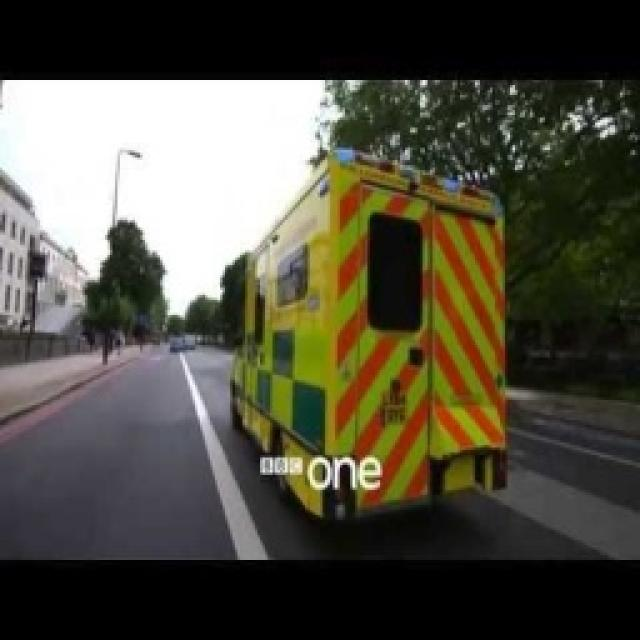emergency-vehicle: (228, 140, 520, 526)
